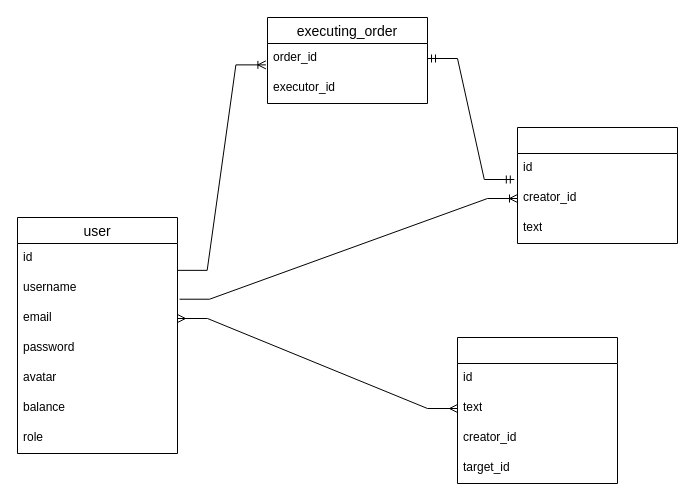
This 695x504 diagram has some shape labels left out. The box of each missing label's shape, as (x1, y1, x2, y2) in pixels:
comment: (456, 336, 618, 484)
order: (516, 126, 678, 244)
